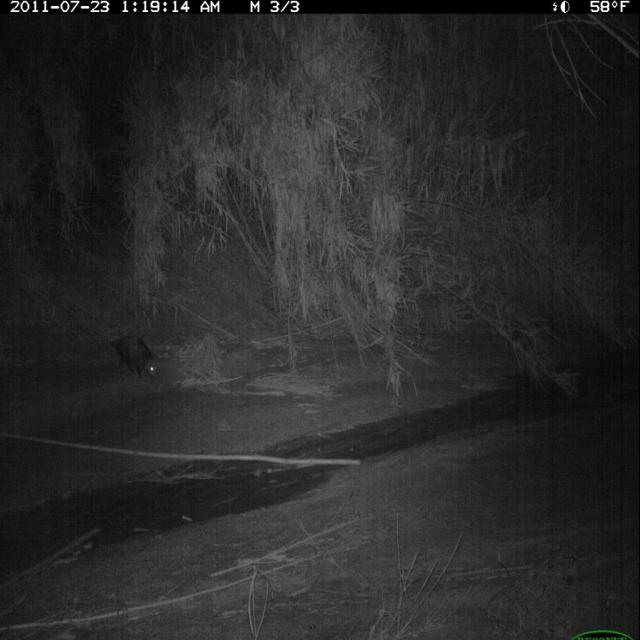opossum: (101, 325, 164, 392)
